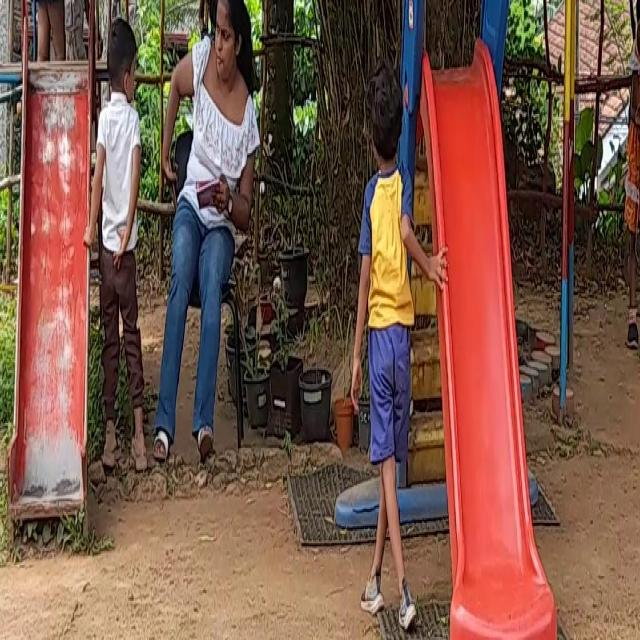adult: (160, 0, 257, 436)
child: (338, 63, 421, 613), (90, 7, 148, 453)
